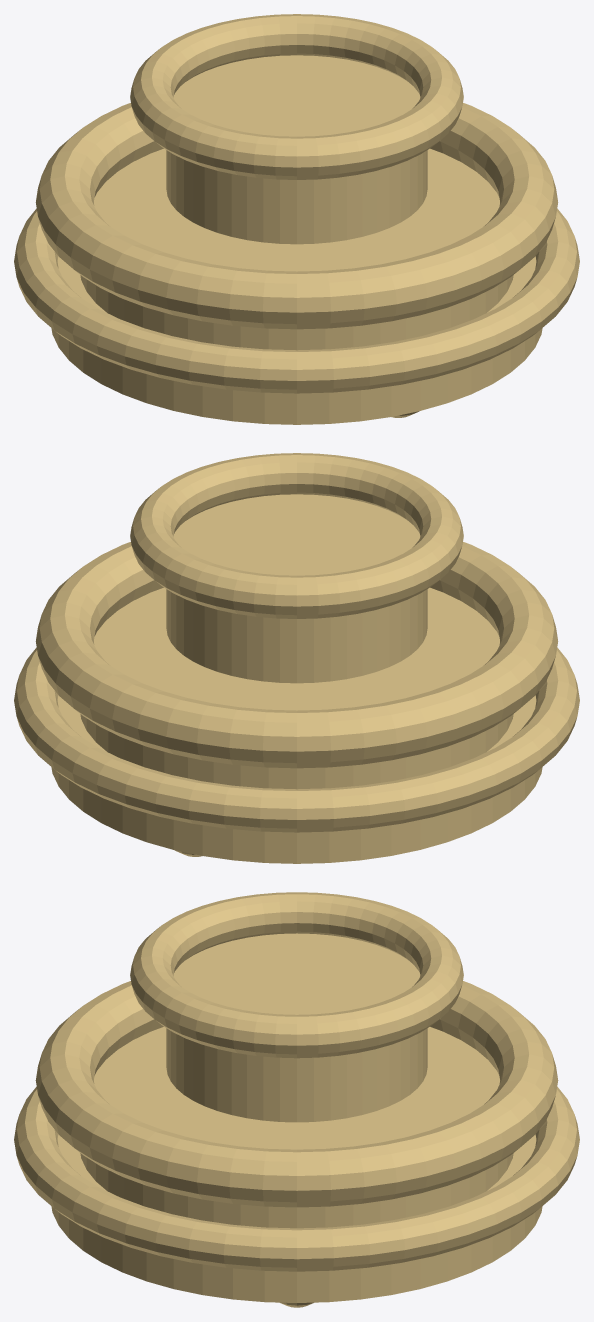
Rendered from tarot_crystal_base.glb.
The picture shows the model from 3 angles, top to bottom: view 1: azimuth 30°, elevation 25°; view 2: azimuth 150°, elevation 25°; view 3: azimuth 270°, elevation 25°; orthographic projection.
Visible parts, largest first — view 1: tarot_crystal_base; view 2: tarot_crystal_base; view 3: tarot_crystal_base.
Part boxes in pixels (x1=…): tarot_crystal_base: x1=14, y1=14, x2=579, y2=424; tarot_crystal_base: x1=14, y1=453, x2=579, y2=863; tarot_crystal_base: x1=14, y1=892, x2=579, y2=1307.
Size of the model in its own units: 0.39 by 0.2 by 0.39.
